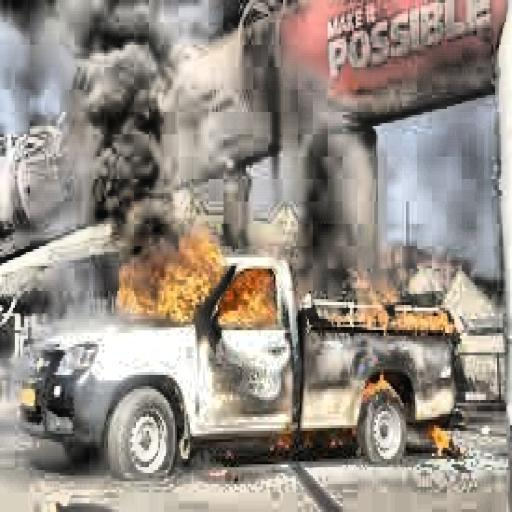fire: (114, 227, 281, 333), (350, 277, 464, 341), (423, 408, 469, 462), (346, 364, 391, 414)
